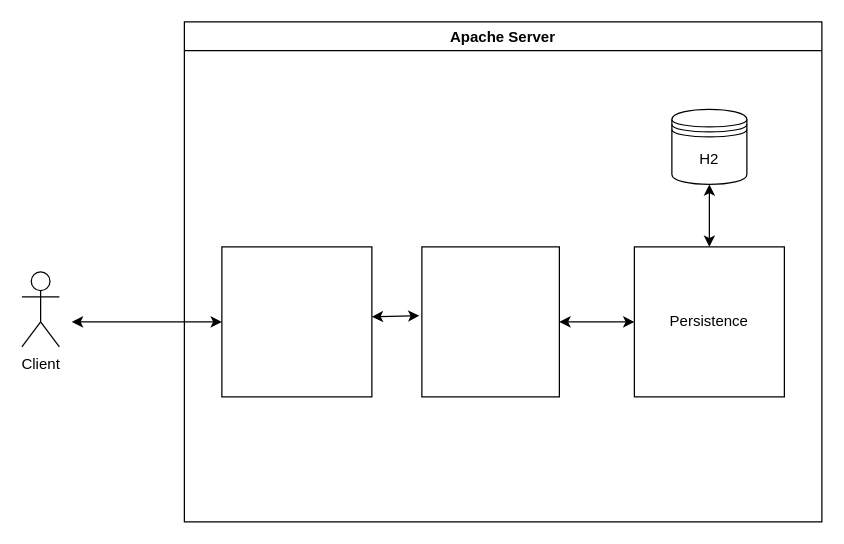
Some shapes in this 844 by 544 pixel diagram are drawn without their labels. The shapes that lost their labels are listed below. From the top down, each one's centre as x and y in pixels, then its label:
At (x=296, y=321): "Controller".
At (x=490, y=321): "Service".
